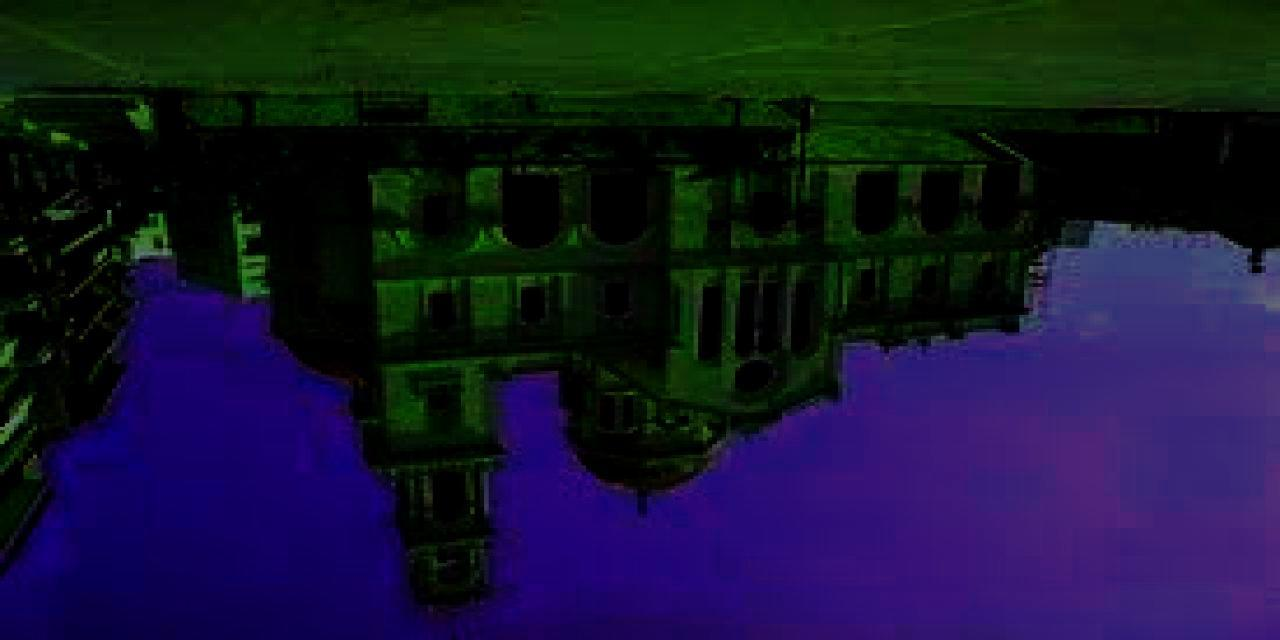Agios Minas: (272, 144, 1034, 640)
